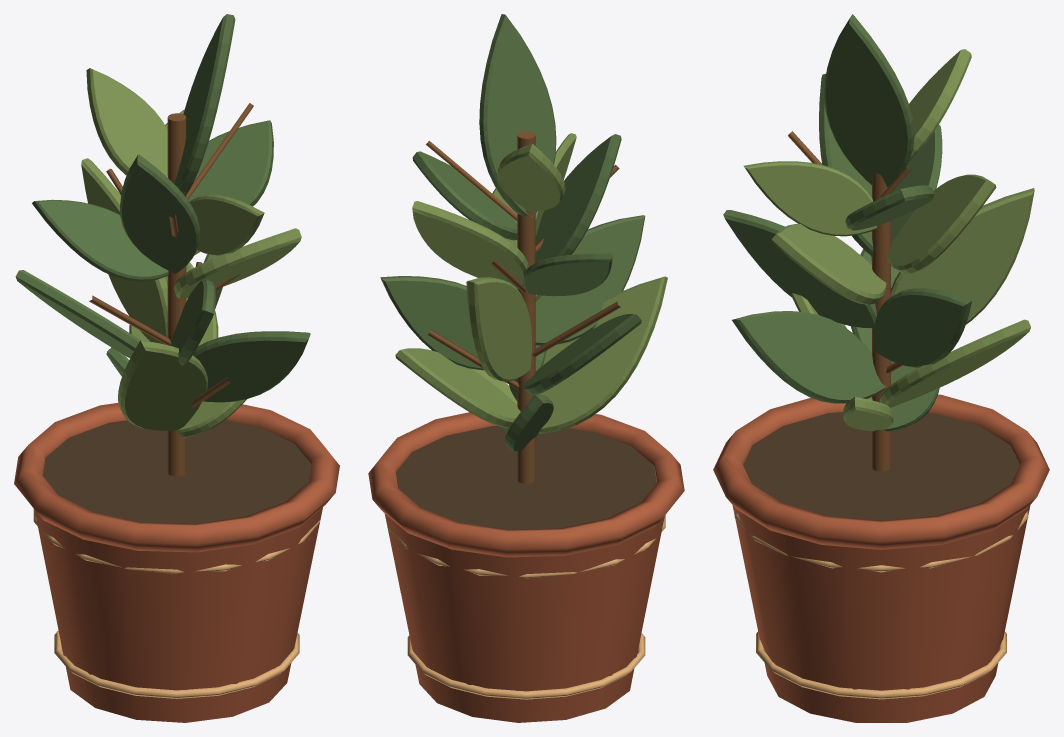
File: workshop-plant.glb
3 views of the same model, side by side, from view 1: azimuth 30°, elevation 25°; view 2: azimuth 150°, elevation 25°; view 3: azimuth 270°, elevation 25° (orthographic). The views are drawn at different scales.
Visible parts, largest first — view 1: pot, soil, Leaf_6, Leaf_1, Leaf_2, Leaf_13, Leaf_14, darkWood, Leaf_17, Leaf_8, Leaf_3, edge (+6 smaller); view 2: pot, soil, Leaf_8, Leaf_1, Leaf_4, Leaf_3, Leaf_10, darkWood, Leaf_12, Leaf_6, Leaf_9, Leaf_14 (+6 smaller); view 3: pot, soil, Leaf_8, Leaf_2, Leaf_3, Leaf_7, Leaf_10, Leaf_12, Leaf_4, Leaf_5, Leaf_9, edge (+7 smaller).
Boxes of the visible parts, x1=… form: pot: x1=14, y1=402, x2=339, y2=722; soil: x1=42, y1=420, x2=311, y2=523; Leaf_6: x1=120, y1=154, x2=199, y2=273; Leaf_1: x1=118, y1=340, x2=207, y2=430; Leaf_2: x1=193, y1=331, x2=310, y2=402; Leaf_13: x1=32, y1=199, x2=168, y2=281; Leaf_14: x1=86, y1=68, x2=167, y2=177; darkWood: x1=89, y1=103, x2=253, y2=476; Leaf_17: x1=188, y1=120, x2=273, y2=206; Leaf_8: x1=174, y1=14, x2=235, y2=196; Leaf_3: x1=81, y1=158, x2=167, y2=344; edge: x1=33, y1=509, x2=320, y2=698; pot: x1=368, y1=412, x2=684, y2=722; soil: x1=395, y1=426, x2=656, y2=529; Leaf_8: x1=479, y1=14, x2=556, y2=218; Leaf_1: x1=538, y1=276, x2=667, y2=433; Leaf_4: x1=535, y1=215, x2=645, y2=345; Leaf_3: x1=466, y1=277, x2=531, y2=381; Leaf_10: x1=380, y1=276, x2=483, y2=370; darkWood: x1=426, y1=131, x2=620, y2=483; Leaf_12: x1=412, y1=201, x2=529, y2=288; Leaf_6: x1=535, y1=134, x2=621, y2=263; Leaf_9: x1=395, y1=348, x2=520, y2=427; Leaf_14: x1=497, y1=144, x2=565, y2=211; pot: x1=713, y1=394, x2=1049, y2=722; soil: x1=743, y1=412, x2=1019, y2=520; Leaf_8: x1=824, y1=14, x2=914, y2=187; Leaf_2: x1=732, y1=311, x2=885, y2=403; Leaf_3: x1=891, y1=188, x2=1034, y2=324; Leaf_7: x1=743, y1=161, x2=877, y2=236; Leaf_10: x1=873, y1=288, x2=972, y2=367; Leaf_12: x1=887, y1=174, x2=996, y2=273; Leaf_4: x1=723, y1=210, x2=876, y2=328; Leaf_5: x1=771, y1=224, x2=886, y2=304; Leaf_9: x1=879, y1=319, x2=1030, y2=407; edge: x1=734, y1=510, x2=1028, y2=699.
Size of the model in its own units: 0.28 by 0.6236 by 0.28.
